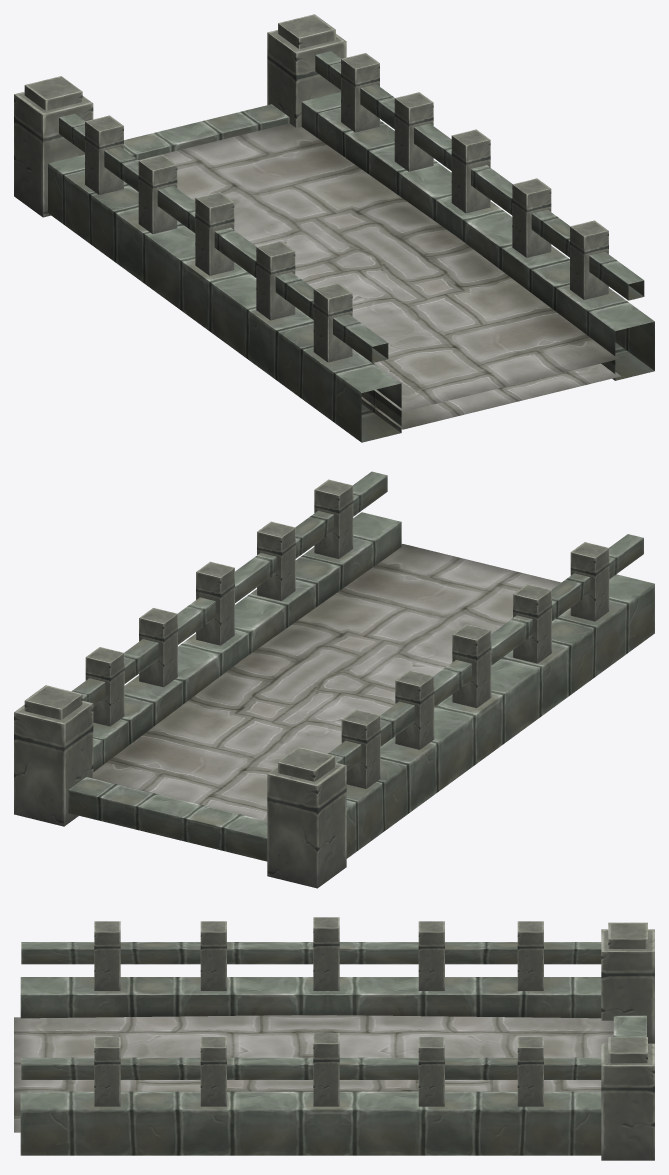
The model's file is bridge_04b_tile_03.fbx.
3 views of the same model, one above another, from view 1: azimuth 30°, elevation 25°; view 2: azimuth 150°, elevation 25°; view 3: azimuth 270°, elevation 25° (orthographic). The views are drawn at different scales.
Parts seen in each view (by area): view 1: bridge_04b_tile_03; view 2: bridge_04b_tile_03; view 3: bridge_04b_tile_03.
Boxes of the visible parts, x1,y1,x2,y2 form: bridge_04b_tile_03: [14, 14, 654, 442]; bridge_04b_tile_03: [14, 471, 654, 888]; bridge_04b_tile_03: [14, 917, 654, 1160].
Bounding box in the file's own units: 2.88 × 1.09 × 5.69.
